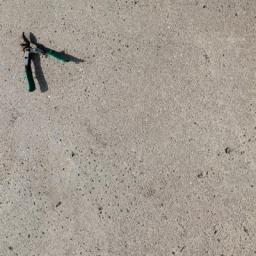FOD: (13, 30, 89, 97)
